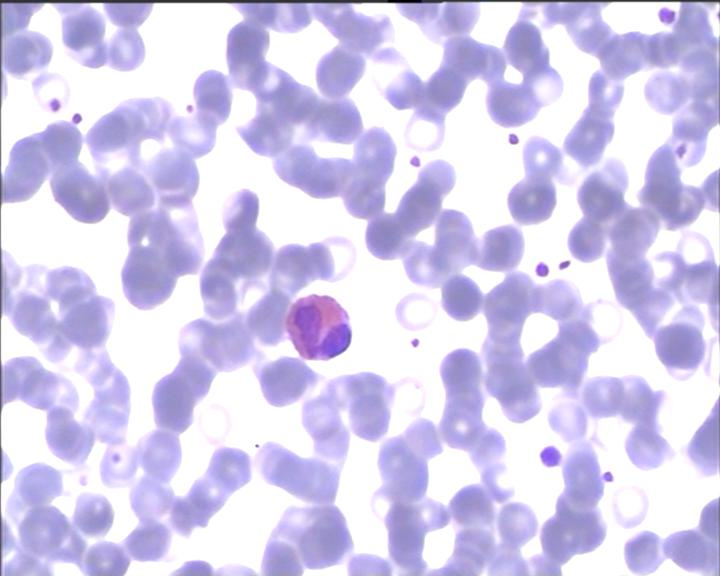eosi: (281, 290, 357, 364)
